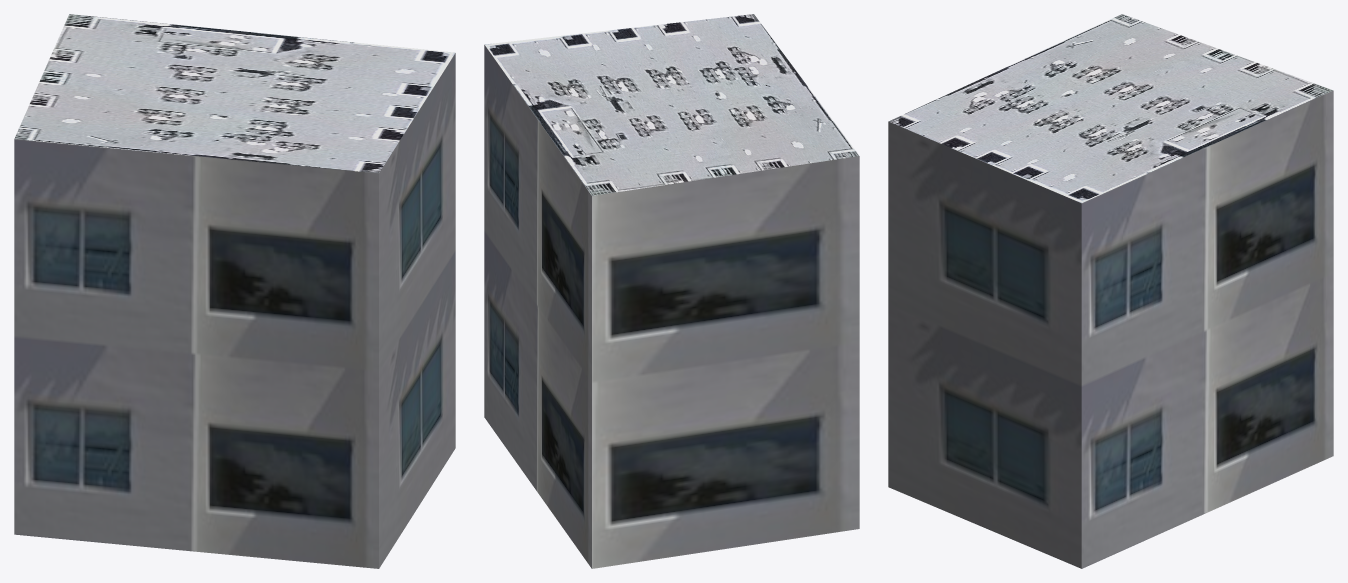
File: ResTex__1679.fbx
3 views of the same model, side by side, from view 1: azimuth 30°, elevation 25°; view 2: azimuth 150°, elevation 25°; view 3: azimuth 270°, elevation 25° (orthographic). The views are drawn at different scales.
Visible parts, largest first — view 1: CityEngineMaterial_10_m, CityEngineMaterial_4_m; view 2: CityEngineMaterial_10_m, CityEngineMaterial_4_m; view 3: CityEngineMaterial_10_m, CityEngineMaterial_4_m.
Part boxes in pixels (<box>): CityEngineMaterial_10_m: <box>14,53,455,568</box>; CityEngineMaterial_4_m: <box>14,14,455,173</box>; CityEngineMaterial_10_m: <box>484,45,859,568</box>; CityEngineMaterial_4_m: <box>484,14,858,195</box>; CityEngineMaterial_10_m: <box>888,90,1333,568</box>; CityEngineMaterial_4_m: <box>888,14,1333,203</box>.
Bounding box in the file's own units: 6.66 × 6 × 6.62.
Materials: 2 (2 with a texture image).
